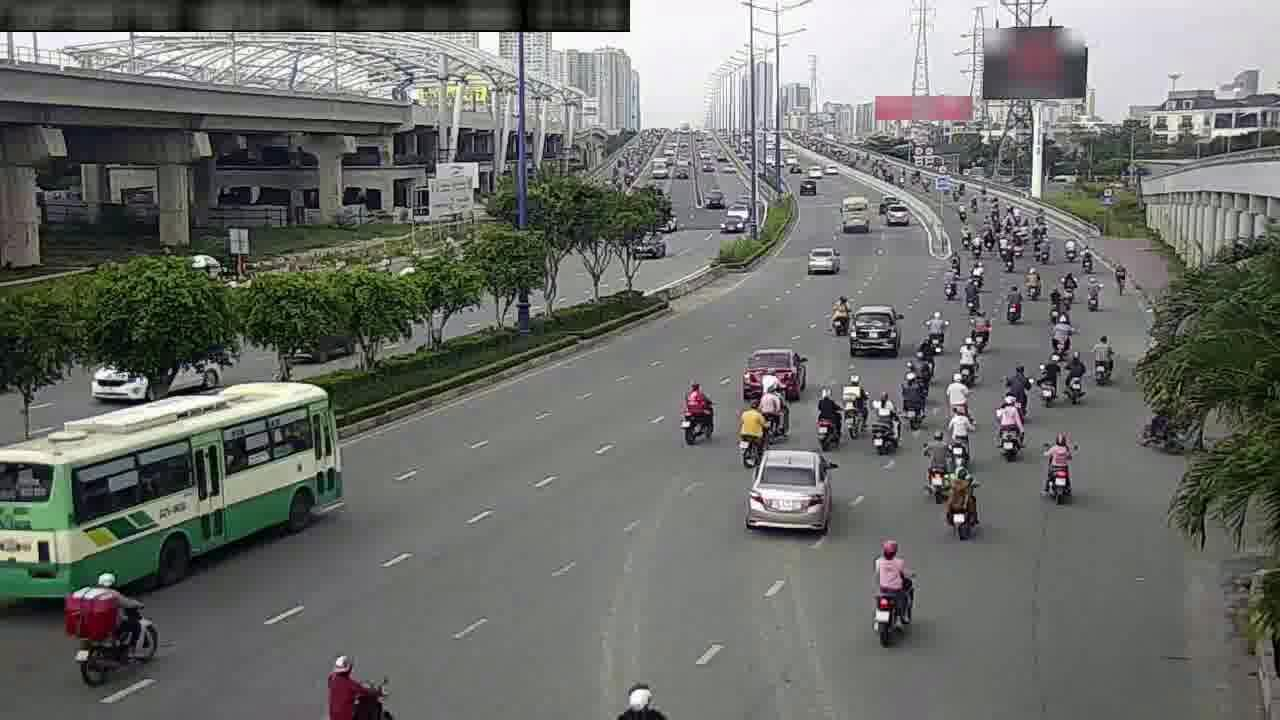car: (750, 446, 831, 536), (843, 298, 904, 356), (739, 346, 802, 397)
motorbike: (71, 569, 151, 682), (863, 537, 919, 634), (322, 653, 388, 720), (945, 466, 979, 542), (863, 390, 902, 456), (916, 433, 955, 498), (680, 378, 714, 451), (1043, 432, 1076, 506), (895, 366, 931, 425), (735, 402, 768, 465), (939, 405, 974, 463), (997, 393, 1027, 459), (1085, 329, 1119, 384), (838, 383, 870, 441), (1058, 347, 1090, 402), (940, 368, 974, 419), (815, 385, 845, 441), (1031, 356, 1063, 408), (758, 386, 785, 447), (950, 339, 982, 386), (918, 304, 951, 349), (907, 340, 938, 385), (1042, 313, 1072, 358), (998, 283, 1028, 327), (966, 305, 996, 348), (1006, 359, 1032, 408), (1081, 273, 1107, 314), (828, 291, 852, 335), (1109, 262, 1135, 302), (1041, 285, 1067, 324), (959, 278, 984, 316), (939, 265, 962, 300)
passenger_car: (0, 393, 327, 577)
